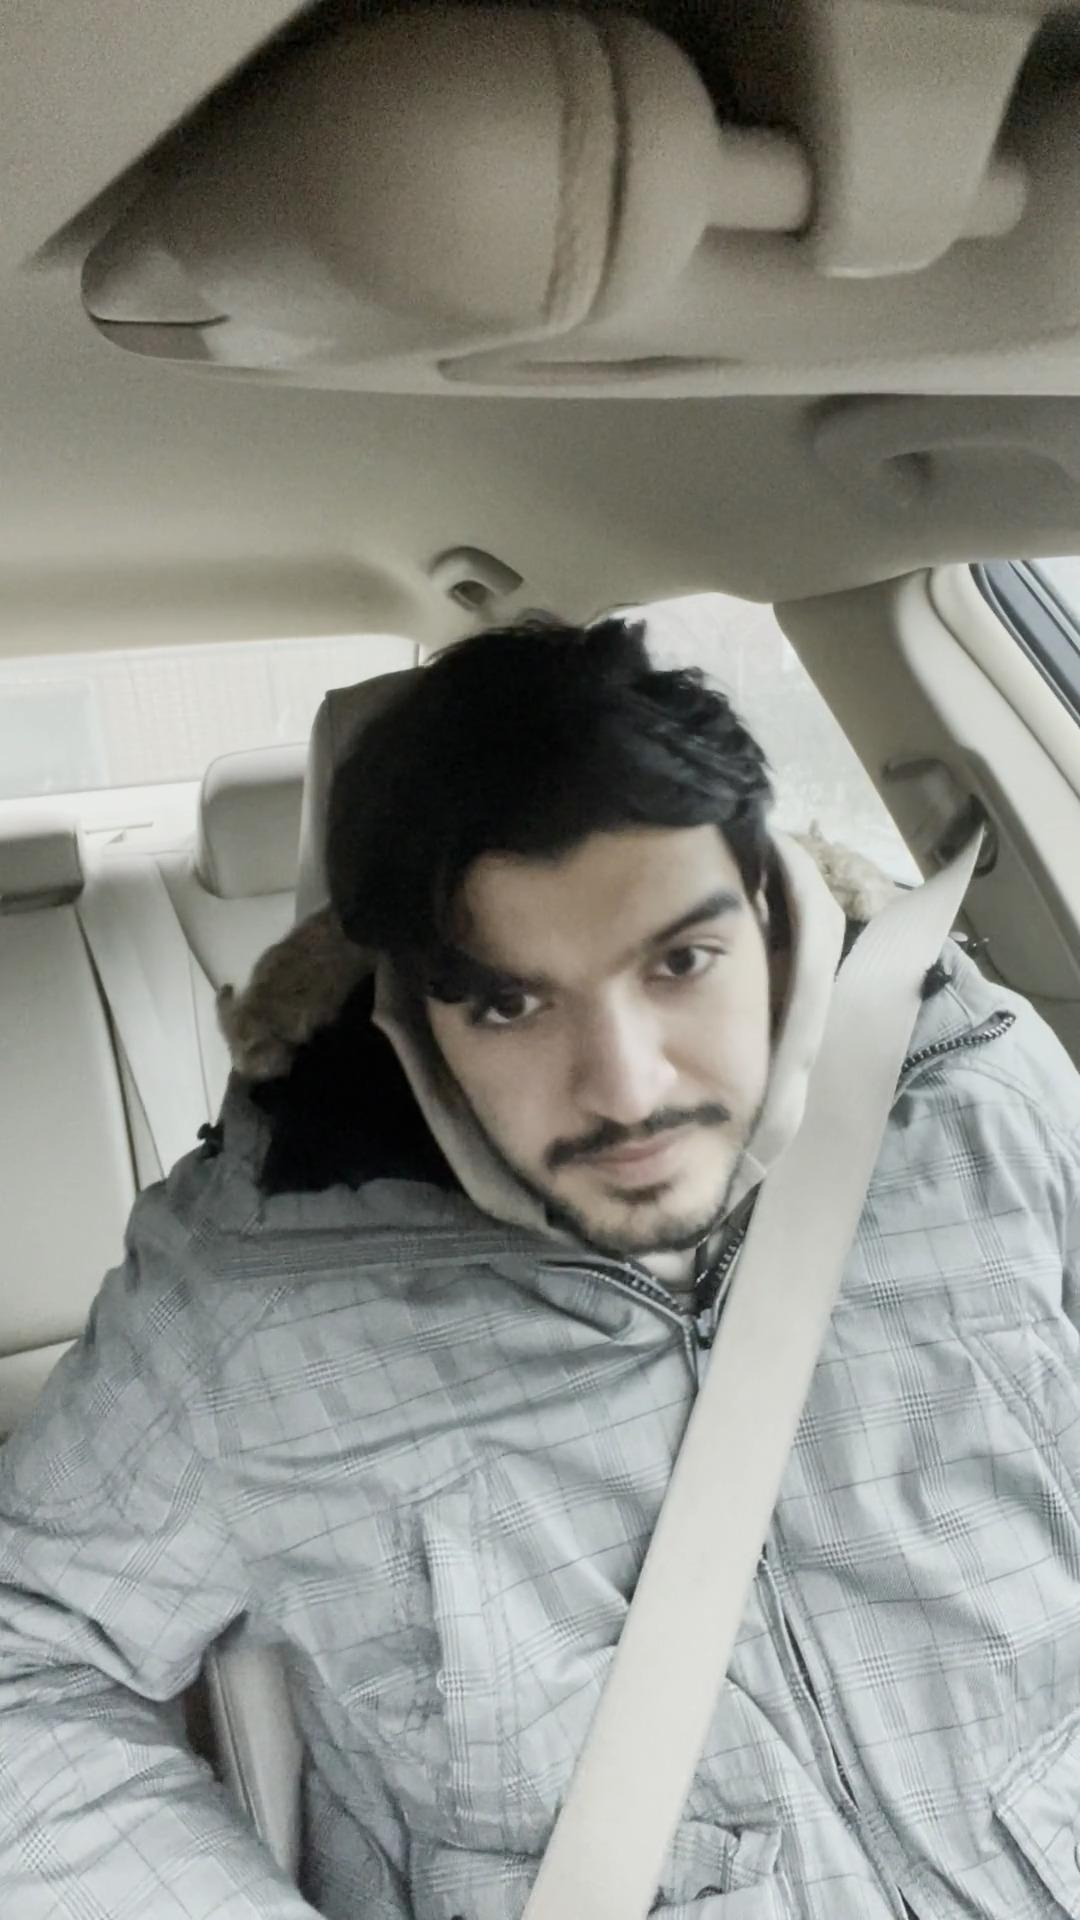seatbelt: (315, 1164, 1080, 1920)
